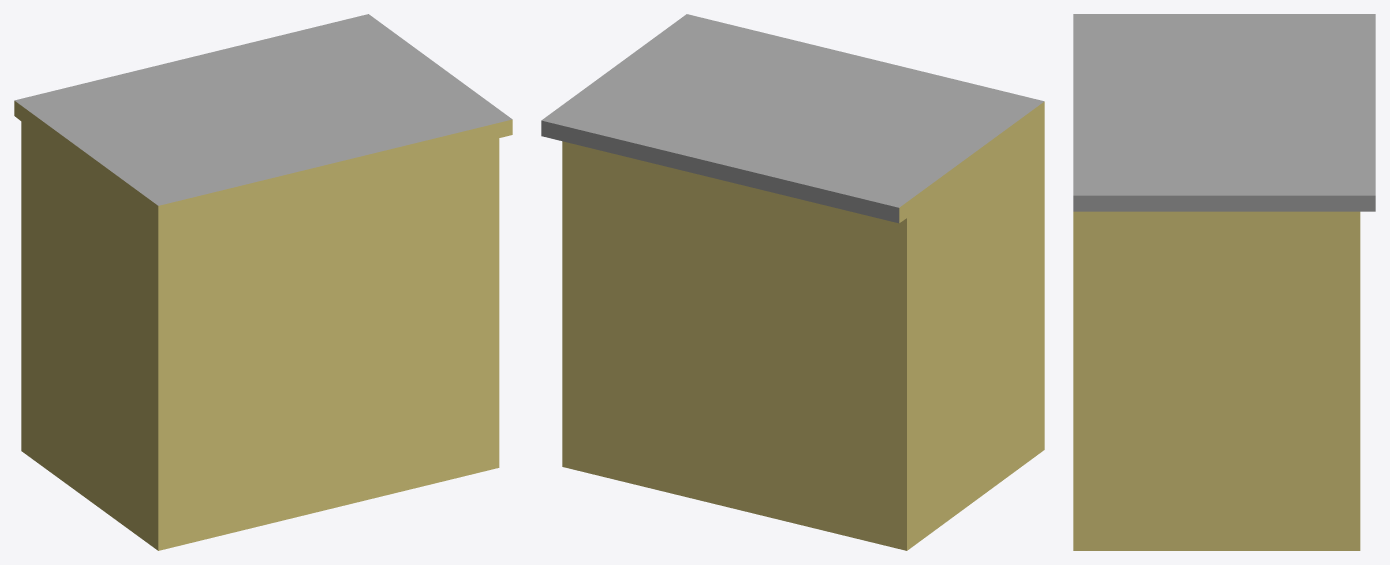
The model's file is counter island.fbx.
3 renders of one model, left to right at view 1: azimuth 30°, elevation 25°; view 2: azimuth 150°, elevation 25°; view 3: azimuth 270°, elevation 25°, orthographic. The views are drawn at different scales.
Parts seen in each view (by area): view 1: Sink.2; view 2: Sink.2; view 3: Sink.2.
Boxes of the visible parts, x1,y1,x2,y2 form: Sink.2: [14, 14, 512, 550]; Sink.2: [541, 14, 1044, 550]; Sink.2: [1073, 14, 1375, 550].
Size of the model in its own units: 323 by 300 by 227.
